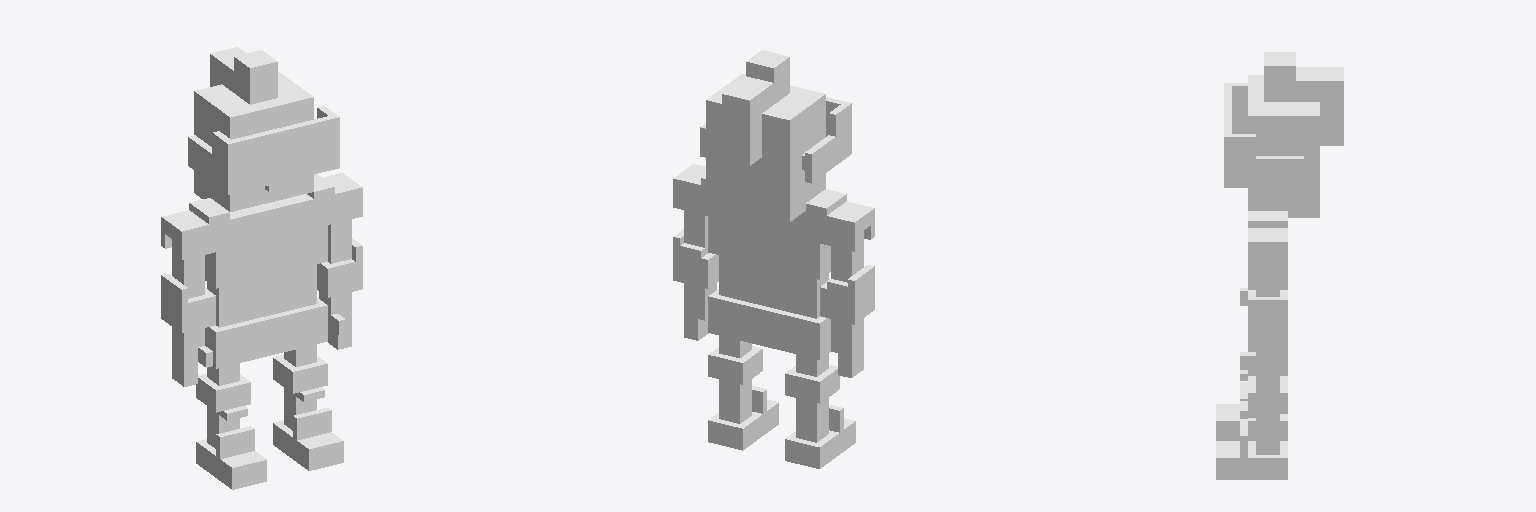
The model's file is soldado.obj.
3 views of the same model, side by side, from view 1: azimuth 30°, elevation 25°; view 2: azimuth 150°, elevation 25°; view 3: azimuth 270°, elevation 25° (orthographic).
Parts seen in each view (by area): view 1: object 1; view 2: object 1; view 3: object 1.
Boxes of the visible parts, x1=… form: object 1: x1=161, y1=47, x2=362, y2=489; object 1: x1=673, y1=50, x2=874, y2=468; object 1: x1=1216, y1=52, x2=1343, y2=479.
Size of the model in its own units: 2.6 by 5.4 by 1.6.